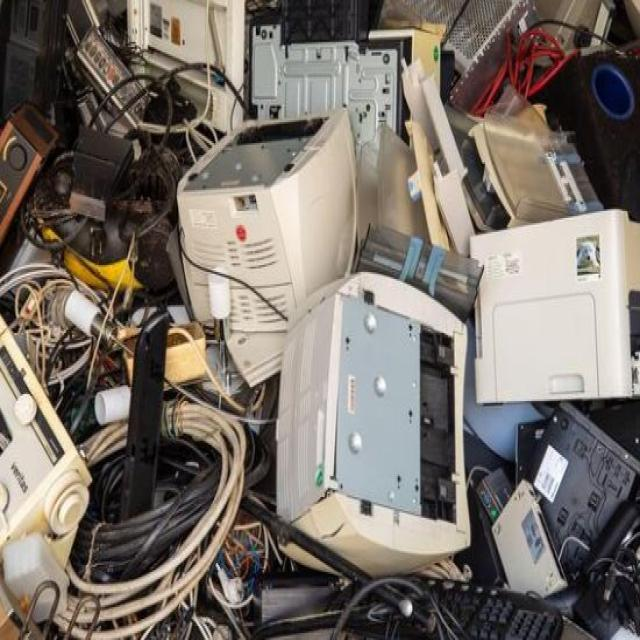electronic: (270, 271, 481, 584), (477, 116, 640, 460), (150, 122, 380, 351), (86, 357, 232, 632), (0, 307, 115, 640)
